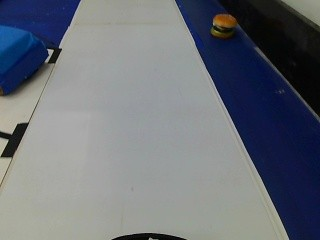burger: (208, 6, 239, 39)
